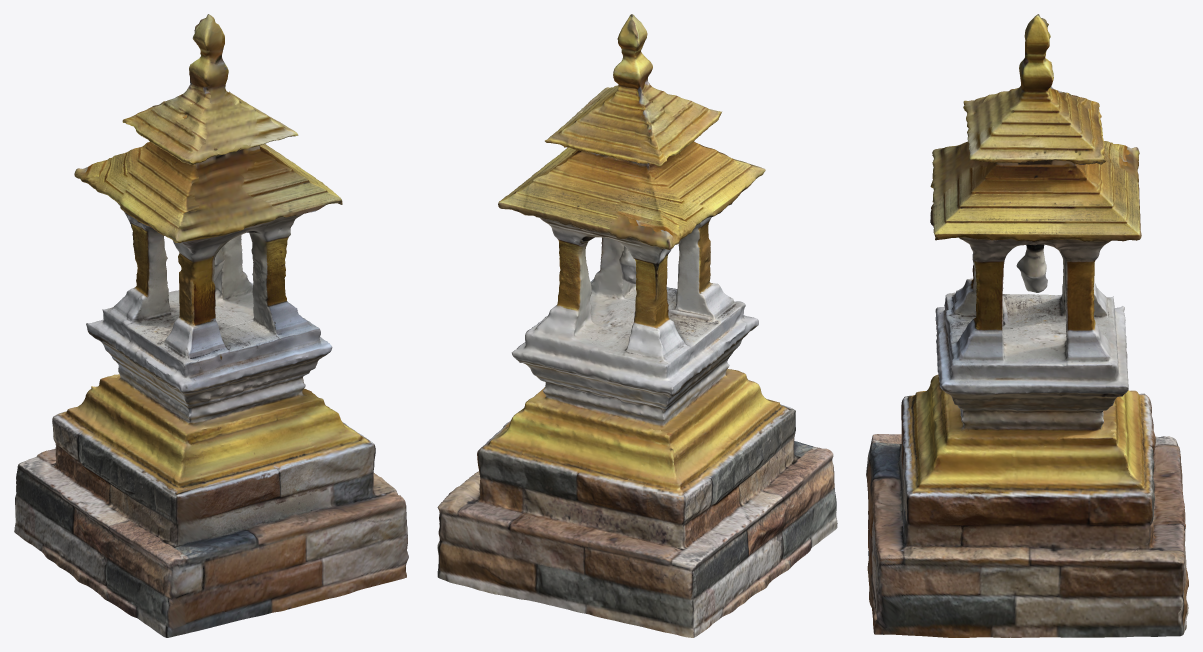
The model's file is pagoda_thai.glb.
3 renders of one model, left to right at view 1: azimuth 30°, elevation 25°; view 2: azimuth 150°, elevation 25°; view 3: azimuth 270°, elevation 25°, orthographic. The views are drawn at different scales.
Visible parts, largest first — view 1: mesh_main_0 (×3); view 2: mesh_main_0 (×3); view 3: mesh_main_0 (×3).
Part boxes in pixels (bbox=[...]): mesh_main_0 (×3): bbox=[14, 14, 408, 637]; mesh_main_0 (×3): bbox=[437, 14, 837, 637]; mesh_main_0 (×3): bbox=[866, 14, 1188, 637].
Bounding box in the file's own units: 0.4964 × 0.9741 × 0.5099.
Materials: 1 (1 with a texture image).
